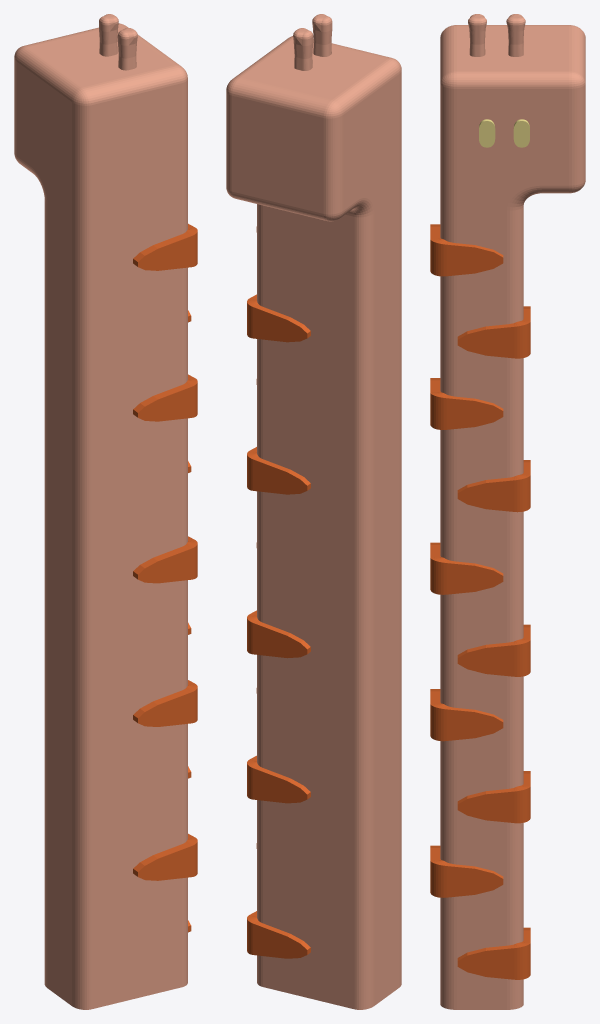
The model's file is 长颈鹿0810-5.dae.
3 renders of one model, left to right at view 1: azimuth 30°, elevation 25°; view 2: azimuth 150°, elevation 25°; view 3: azimuth 270°, elevation 25°, orthographic.
Parts seen in each view (by area): view 1: 鹿, 立方体.001; view 2: 鹿, 立方体.001; view 3: 鹿, 立方体.001.
Part boxes in pixels (box(x1,y1,x2,y2)): 鹿: box(14, 14, 187, 1009); 立方体.001: box(133, 223, 197, 932); 鹿: box(226, 14, 401, 1009); 立方体.001: box(247, 226, 310, 958); 鹿: box(440, 14, 585, 1009); 立方体.001: box(430, 224, 530, 979).
Size of the model in its own units: 1.33 by 1.46 by 10.08.
